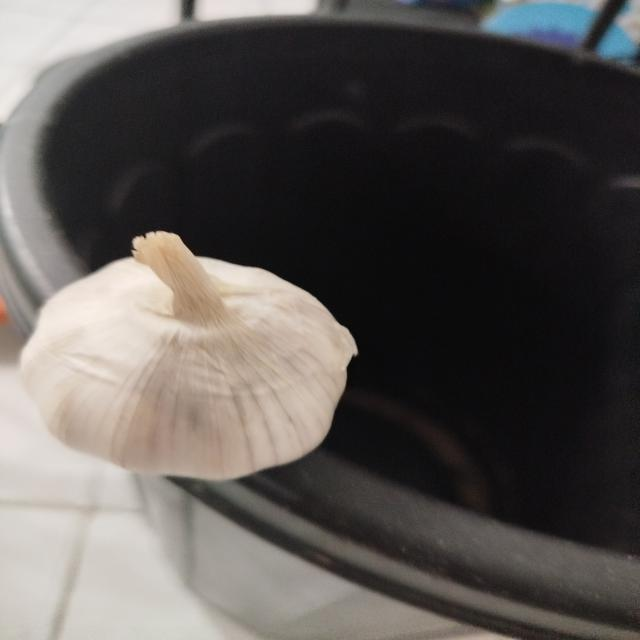garlic: (17, 229, 359, 482)
